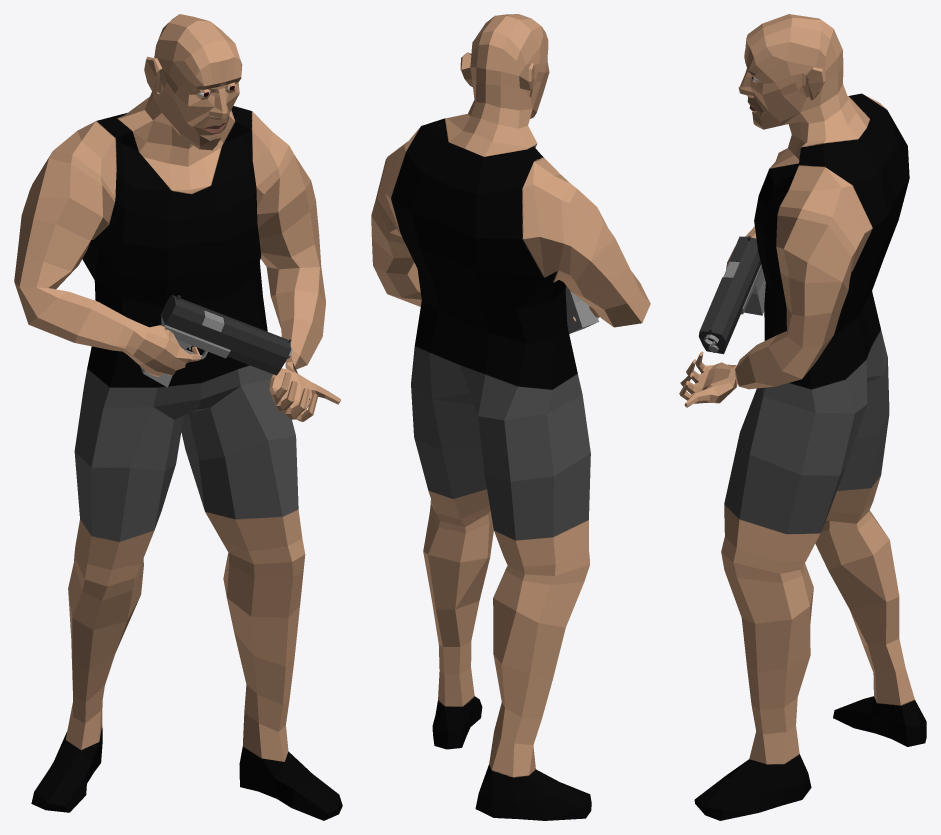
File: PlayerIdle(188).obj
3 views of the same model, side by side, from view 1: azimuth 30°, elevation 25°; view 2: azimuth 150°, elevation 25°; view 3: azimuth 270°, elevation 25° (orthographic). The views are drawn at different scales.
Visible parts, largest first — view 1: Plane002, Box003; view 2: Plane002, Box003; view 3: Plane002, Box003.
Boxes of the visible parts, <box> form: Plane002: <box>14,14,342,820</box>; Box003: <box>140,295,292,387</box>; Plane002: <box>371,14,650,820</box>; Box003: <box>565,286,598,333</box>; Plane002: <box>679,14,926,820</box>; Box003: <box>698,236,765,354</box>.
Bounding box in the file's own units: 695 × 1801 × 536.
